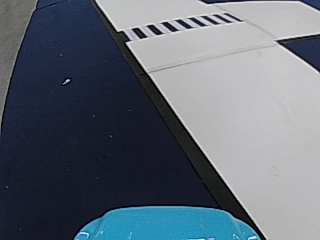CrossWalk: (122, 12, 236, 40)
